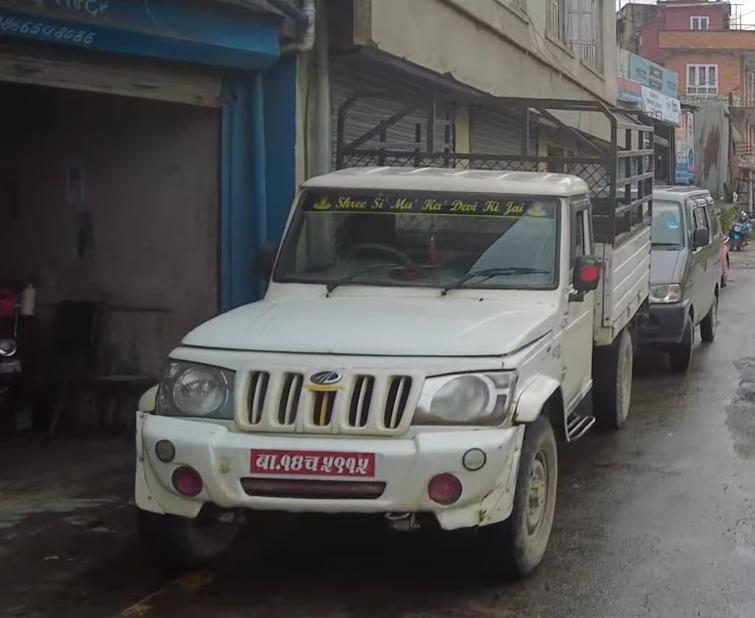scooter: (722, 206, 755, 258)
transport_vehicle: (125, 86, 657, 597)
van: (592, 153, 732, 391)
